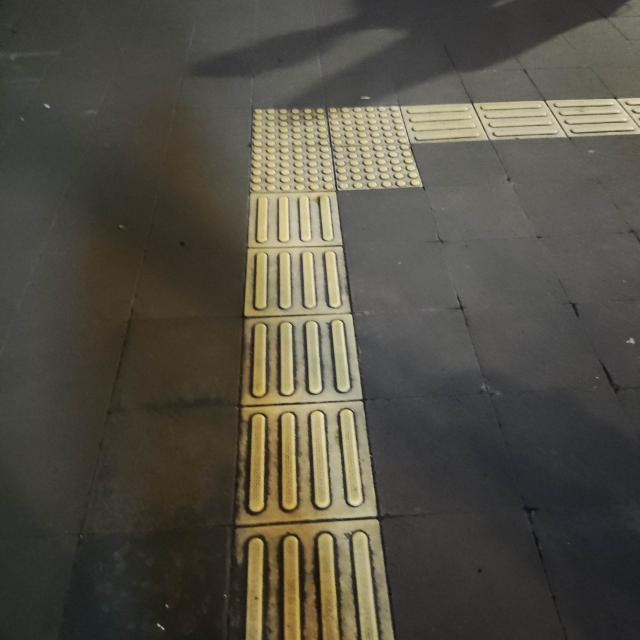kanan: (223, 80, 545, 224)
